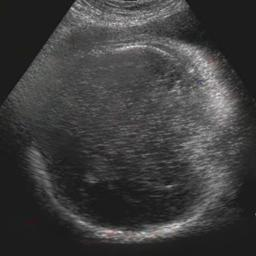abnormal: (26, 35, 235, 244)
